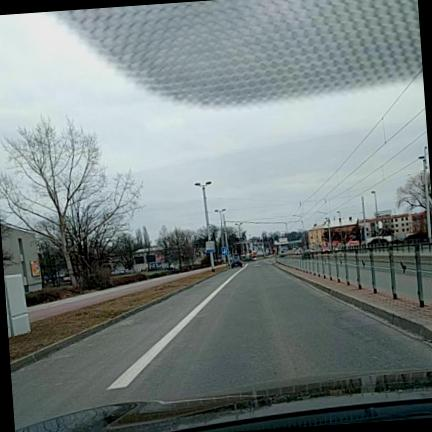Road: (11, 261, 431, 427)
